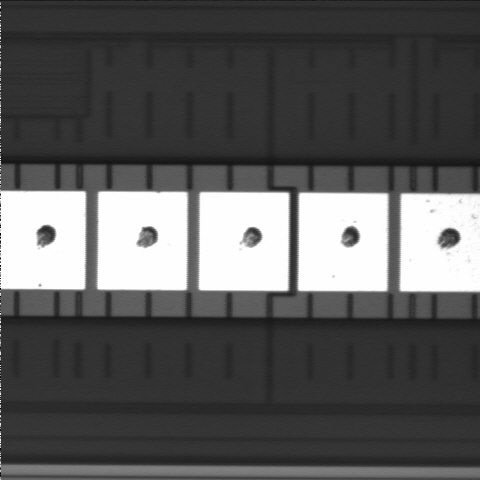pad: (199, 192, 289, 291), (97, 192, 187, 290), (298, 193, 388, 291)
